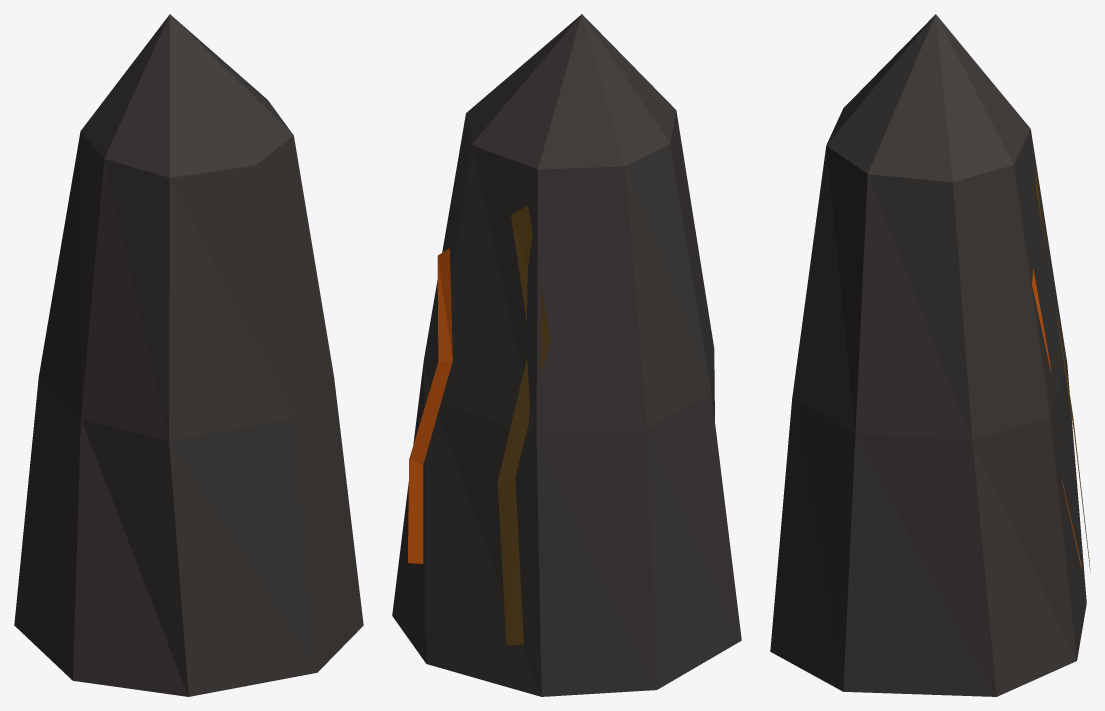
Rendered from mountain_pillar.obj.
3 views of the same model, side by side, from view 1: azimuth 30°, elevation 25°; view 2: azimuth 150°, elevation 25°; view 3: azimuth 270°, elevation 25° (orthographic).
Parts seen in each view (by area): view 1: ThickMountainPillar; view 2: ThickMountainPillar; view 3: ThickMountainPillar.
Part boxes in pixels (x1=…): ThickMountainPillar: x1=14, y1=14, x2=363, y2=696; ThickMountainPillar: x1=392, y1=14, x2=741, y2=696; ThickMountainPillar: x1=770, y1=14, x2=1090, y2=696.
Bounding box in the file's own units: 1.34 × 2.75 × 1.32.
